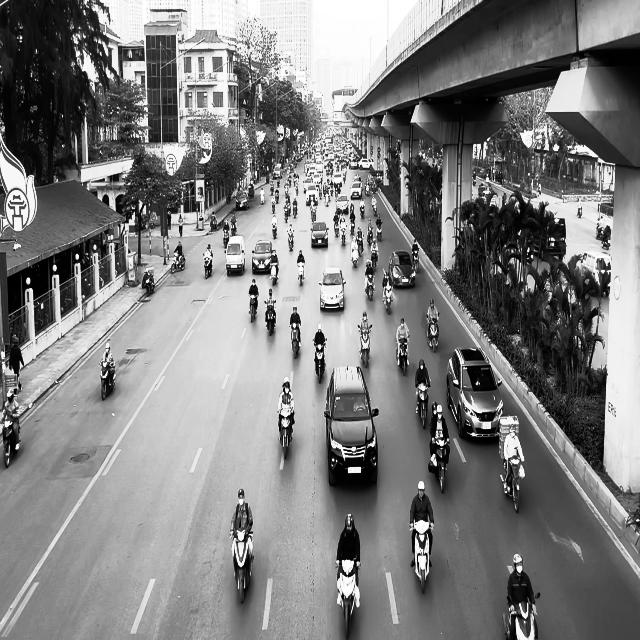car: (324, 365, 378, 487), (446, 346, 504, 439), (575, 251, 611, 297), (318, 266, 346, 310), (389, 250, 416, 287), (225, 236, 245, 275), (251, 240, 273, 274), (311, 220, 328, 248), (235, 191, 249, 210)
motorbike: (335, 558, 360, 639), (502, 592, 540, 640), (230, 529, 254, 603), (410, 521, 433, 593), (500, 455, 523, 513), (428, 437, 450, 493), (1, 417, 20, 468), (278, 409, 293, 458), (415, 383, 430, 428), (357, 323, 372, 367), (99, 359, 115, 400), (312, 338, 326, 383), (396, 335, 410, 376), (264, 299, 276, 336), (427, 315, 439, 352), (289, 322, 301, 358), (142, 268, 155, 296), (382, 281, 393, 314), (364, 270, 375, 300), (171, 252, 185, 274), (248, 294, 258, 322), (203, 252, 213, 278), (297, 259, 305, 285), (270, 260, 278, 285), (286, 228, 294, 251), (272, 216, 278, 239), (223, 230, 229, 250)
